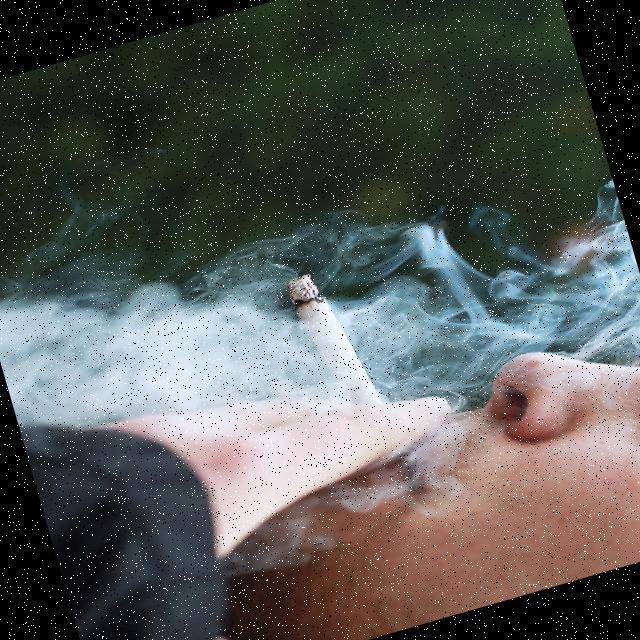cigarette: (269, 252, 394, 427)
